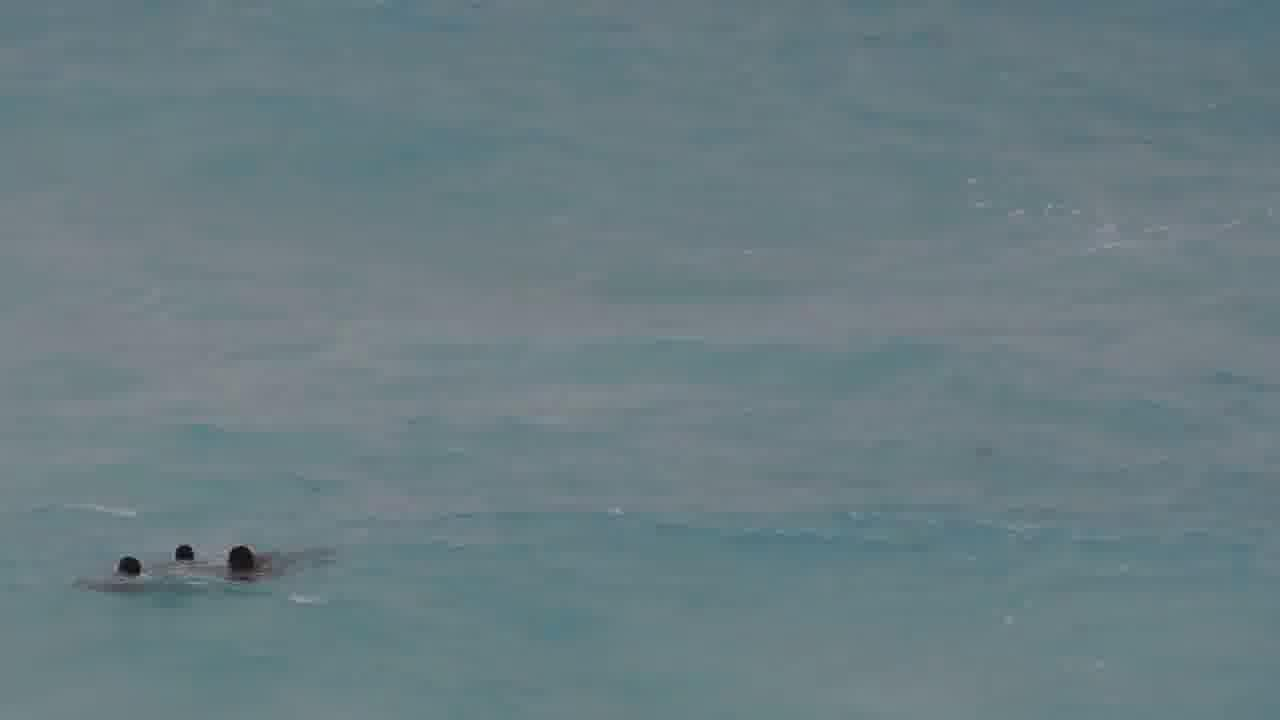human: (76, 548, 165, 591), (211, 535, 284, 582), (159, 532, 218, 569)
